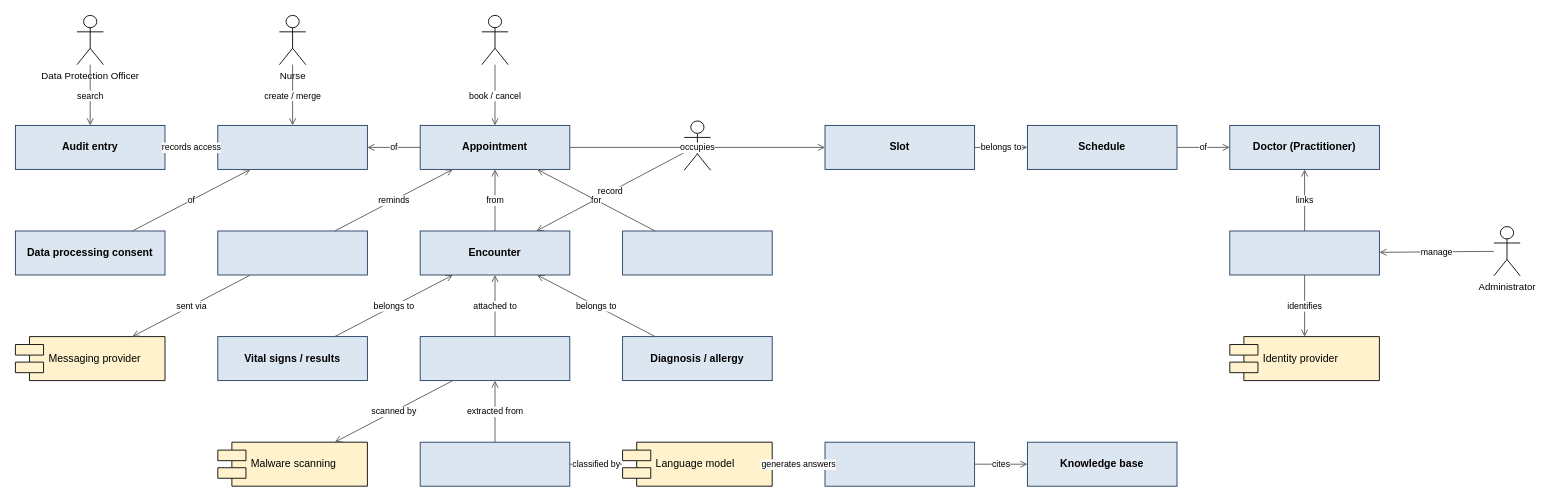
Image size: 1551x502. Some labels were removed from this diagram. The centre of each missing label's shape, as x and y in pixels:
"Account" belongs at point (1304, 252).
"Appointment reminder" belongs at point (292, 252).
"Assistant conversation" belongs at point (899, 463).
"Clinical document" belongs at point (494, 358).
"Doctor" belongs at point (697, 145).
"Extraction result" belongs at point (494, 463).
"No-show prediction" belongs at point (697, 252).
"Patient" belongs at point (494, 40).
"Patient (Patient)" belongs at point (292, 147).
